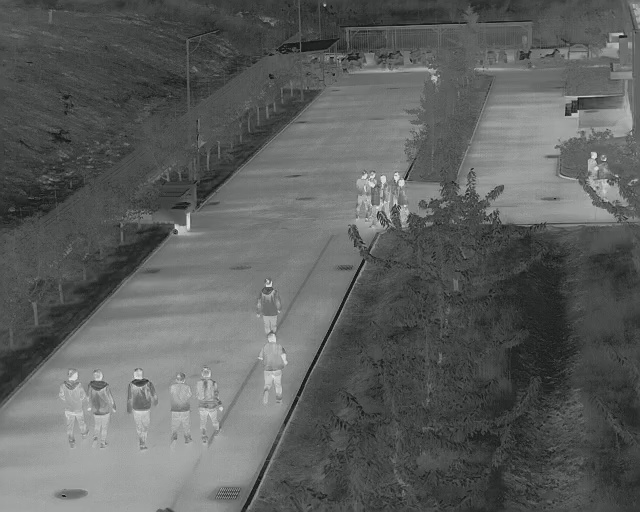person: (126, 367, 159, 452), (195, 368, 226, 447), (57, 368, 86, 452), (86, 370, 115, 452), (258, 332, 288, 404), (168, 373, 194, 448), (255, 277, 284, 333), (596, 155, 618, 199), (390, 170, 408, 217), (355, 169, 370, 222), (376, 174, 389, 215), (588, 150, 598, 189)
